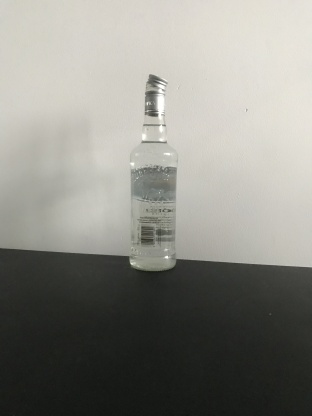nakretka: (143, 71, 169, 117)
